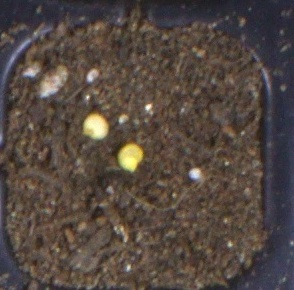chilli seed: (116, 143, 144, 173), (81, 113, 109, 140)
